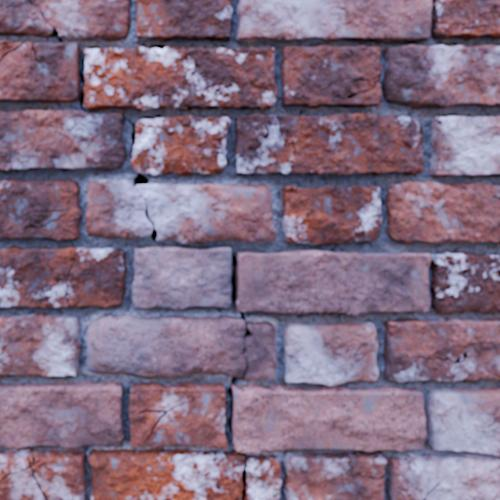brick: (232, 322, 499, 499), (235, 250, 499, 315), (0, 382, 122, 499), (281, 45, 499, 108), (84, 47, 276, 110), (236, 0, 499, 43), (235, 114, 423, 174), (0, 246, 126, 307), (0, 111, 125, 170), (384, 317, 499, 381), (386, 182, 499, 242), (129, 382, 226, 448), (133, 246, 230, 308), (131, 116, 229, 175), (283, 185, 380, 244), (0, 313, 80, 375), (0, 179, 81, 239), (0, 43, 80, 101), (430, 116, 499, 176), (136, 0, 231, 41), (0, 469, 43, 499), (0, 44, 12, 56)
broken_brick: (86, 313, 277, 381), (84, 179, 276, 244), (87, 447, 243, 499), (0, 0, 132, 41), (248, 454, 281, 499)
crack: (248, 114, 298, 159), (0, 456, 48, 499), (324, 73, 381, 101), (227, 365, 247, 435), (232, 449, 249, 499), (54, 263, 72, 306), (144, 203, 160, 245), (0, 40, 24, 65), (240, 310, 253, 352), (124, 117, 135, 152), (31, 42, 45, 68), (230, 254, 237, 303), (423, 482, 440, 499), (78, 71, 85, 112), (131, 172, 148, 188), (50, 27, 62, 43), (357, 474, 384, 480), (253, 0, 259, 14), (437, 116, 443, 126), (490, 194, 499, 199)
